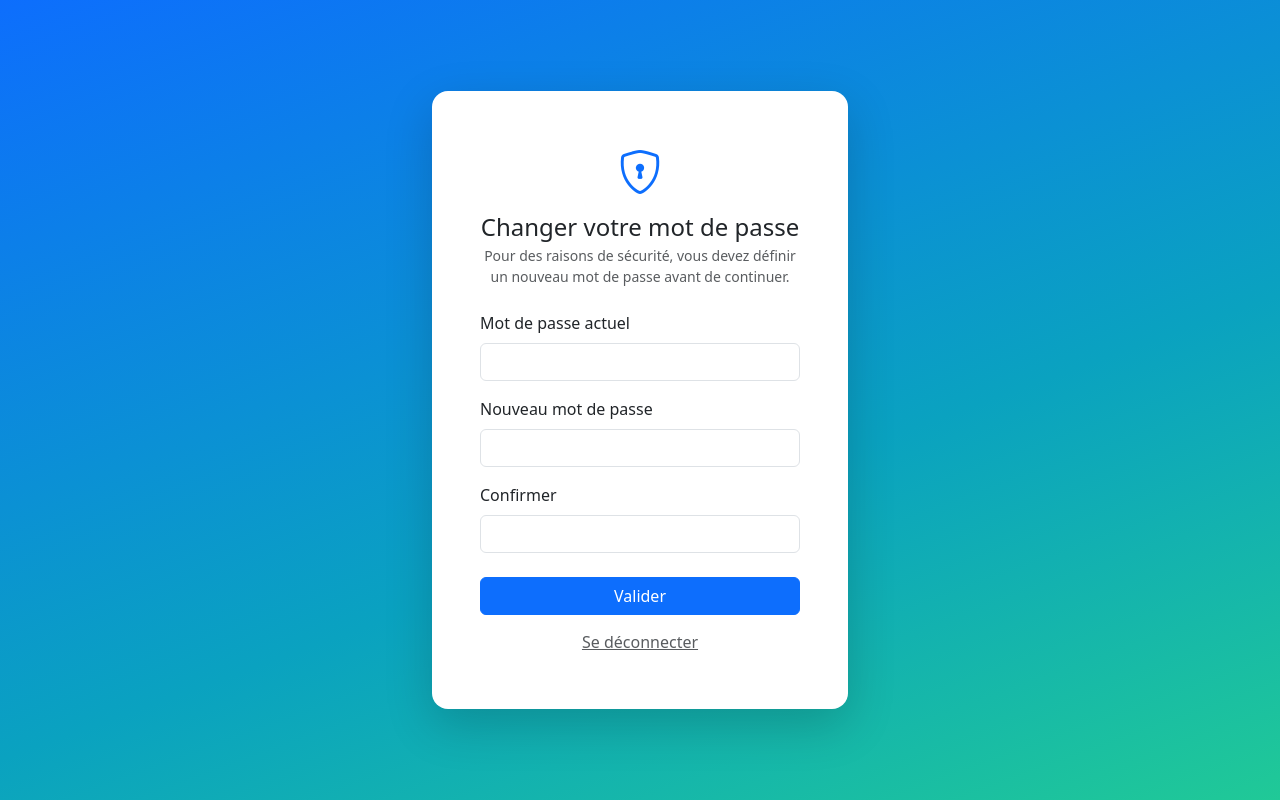
it: ForcePasswordChange › refuse si la confirmation ne correspond pas
Type "old" into the password field named "current" at (640, 362), box [480,343,800,381]
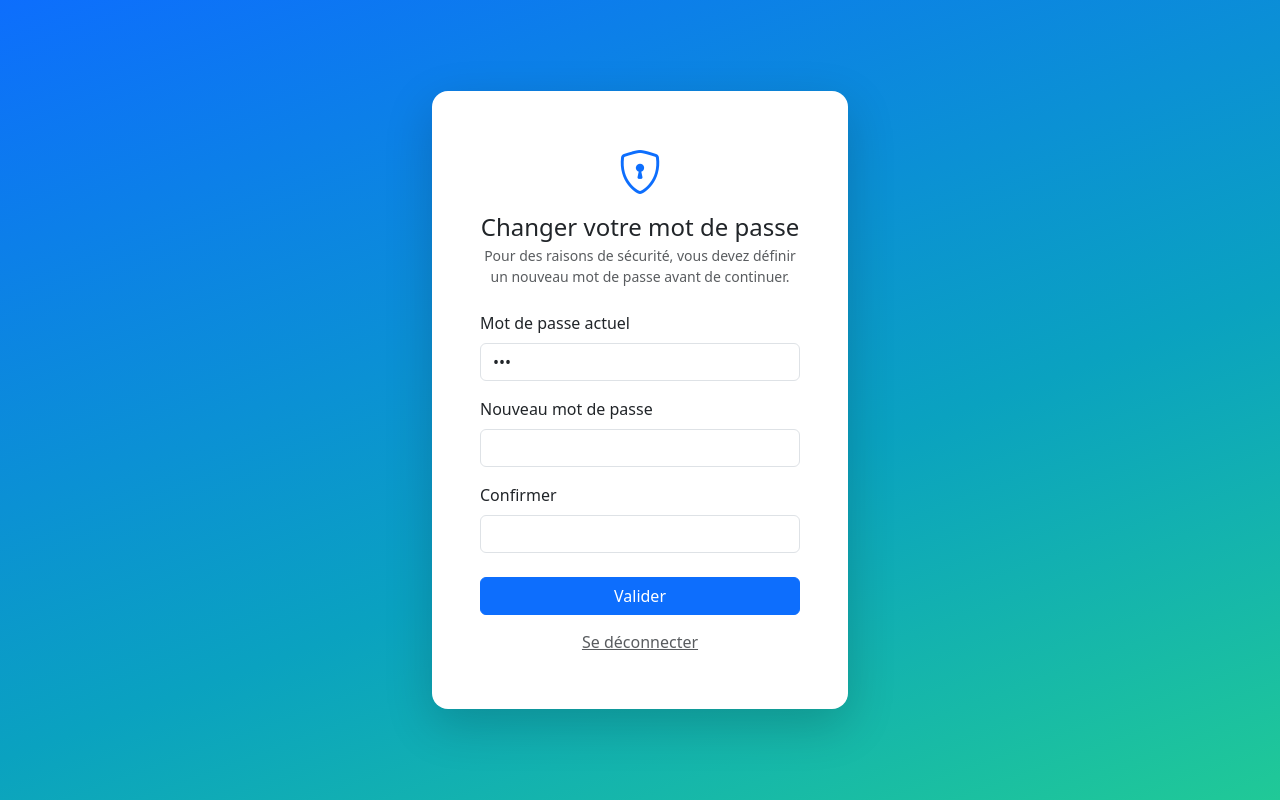
Type "newpassword" into the password field named "next" at (640, 448), box [480,429,800,467]
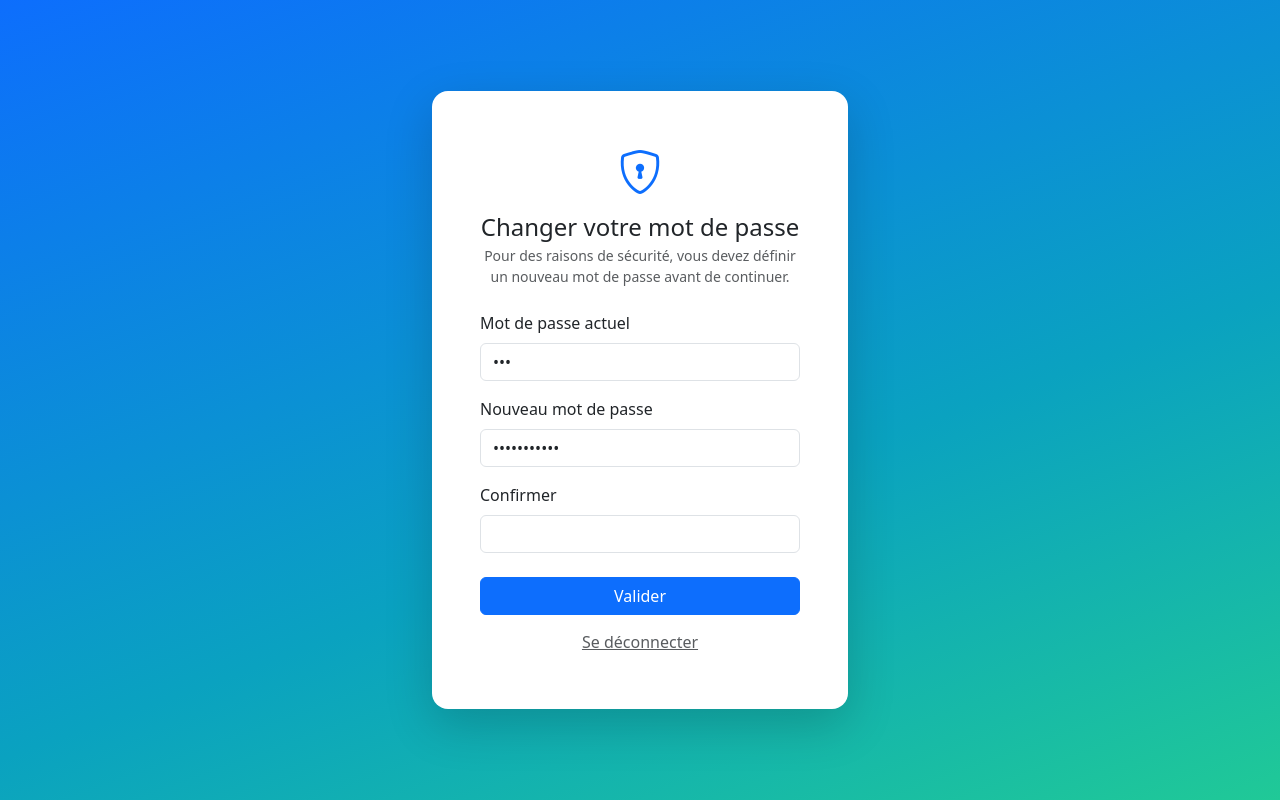
Type "different" into the password field named "confirm" at (640, 534), box [480,515,800,553]
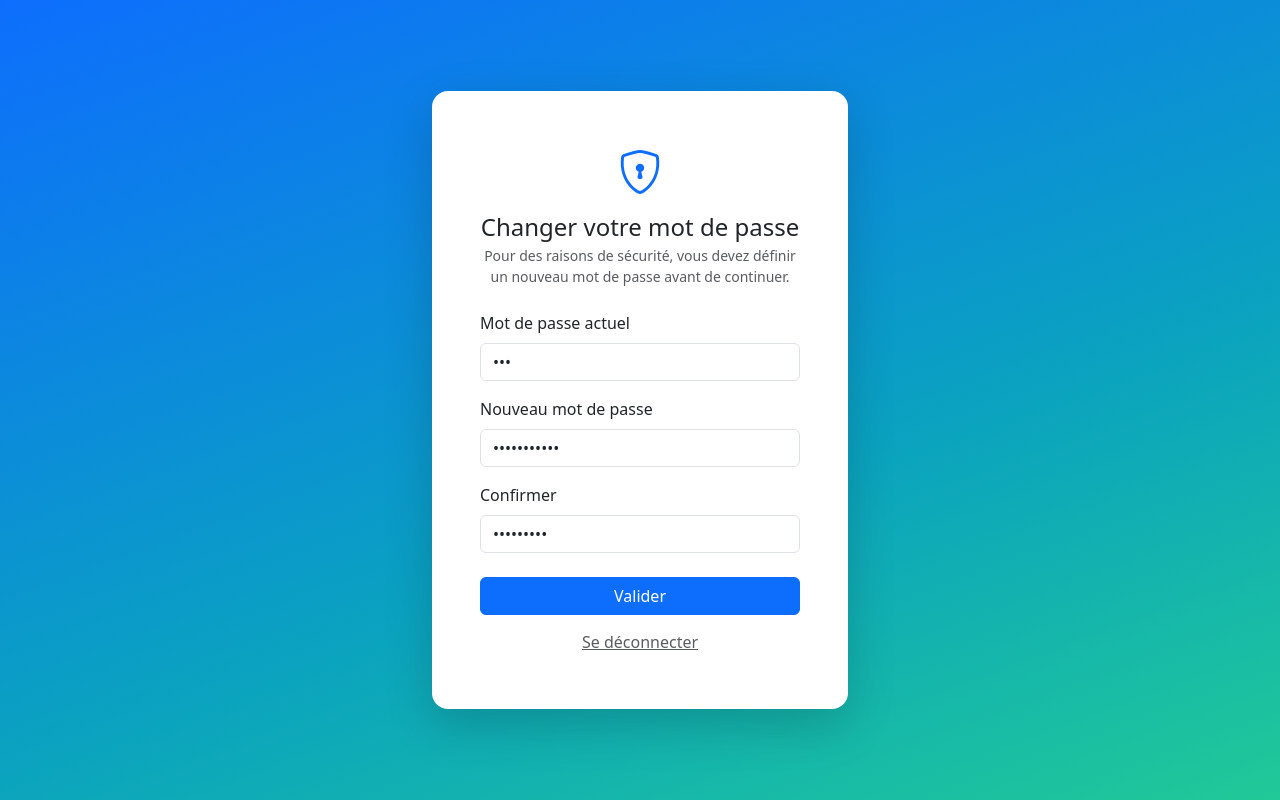
Submit the form, box [480,311,800,661]
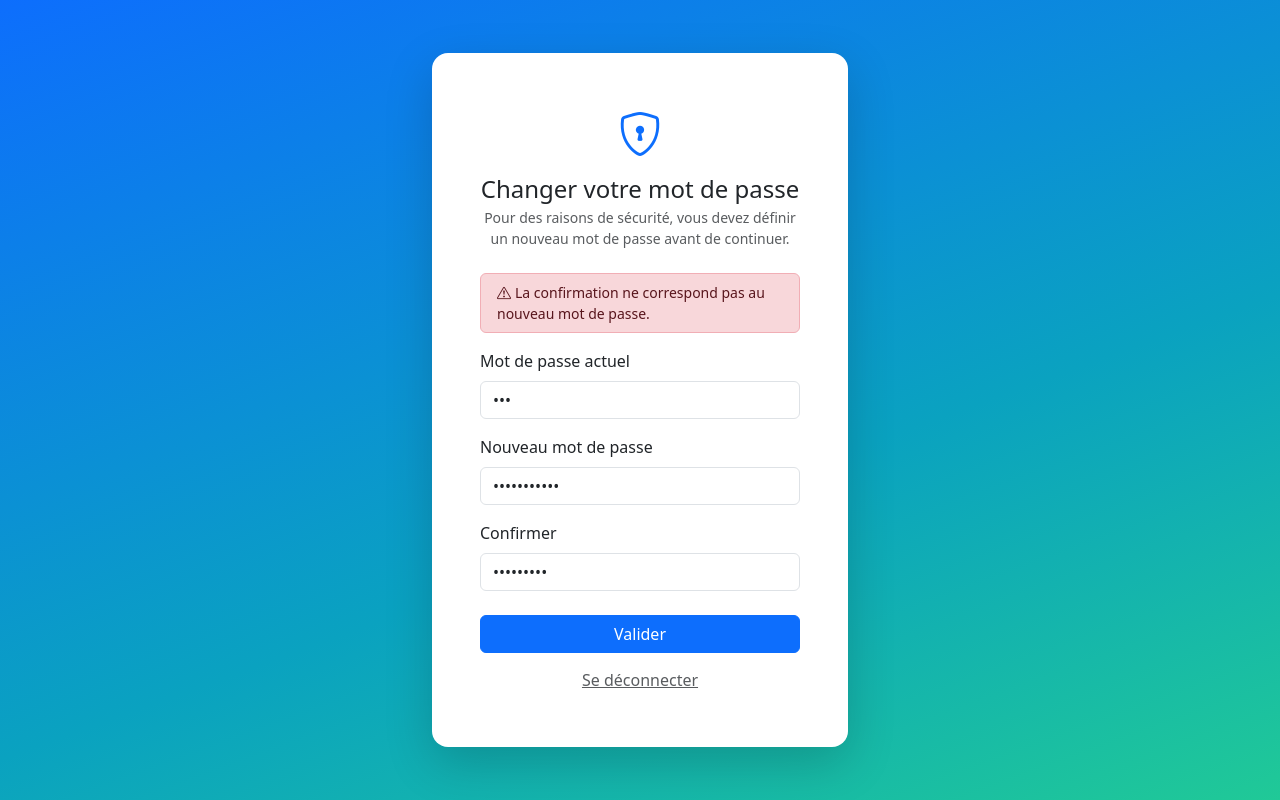
Expected: the text "ne correspond" is shown, [497,283,765,323]
